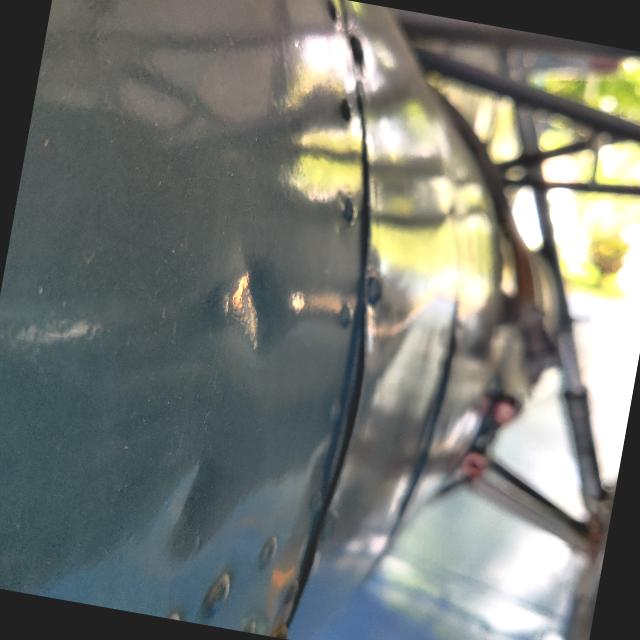dent: (122, 436, 253, 592), (188, 232, 323, 378)
